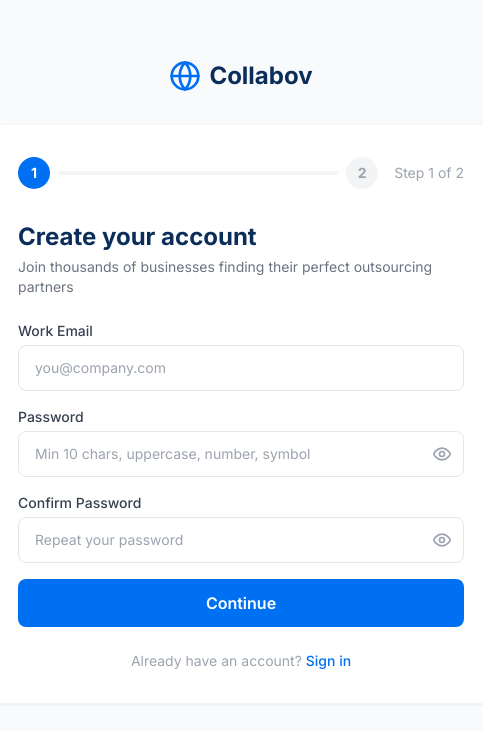
Scenario: Feature: Buyer Registration (3-step flow) › Scenario: Password must meet security requirements › should reject a password without a number
Step 1. Type "a@b.com" into the field with placeholder "you@company.com" → (241, 368), box x1=18 y1=345 x2=464 y2=391
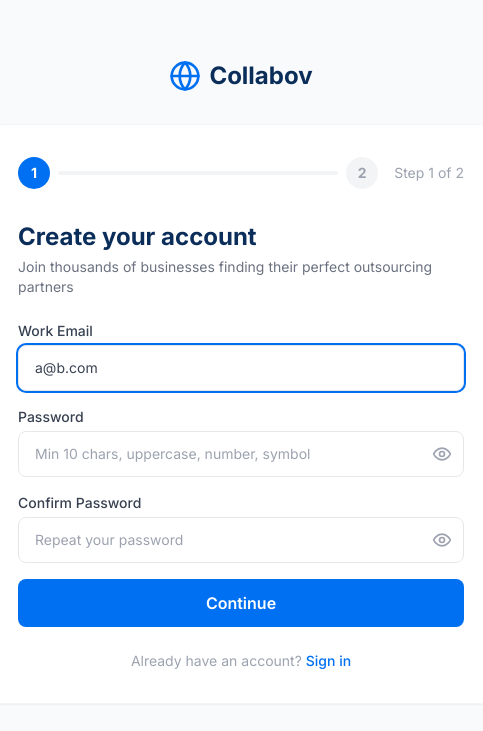
Step 2. Type "NoNumberHere!" into the password field with placeholder "Min 10 chars, uppercase, number, symbol" → (241, 454), box x1=18 y1=431 x2=464 y2=477
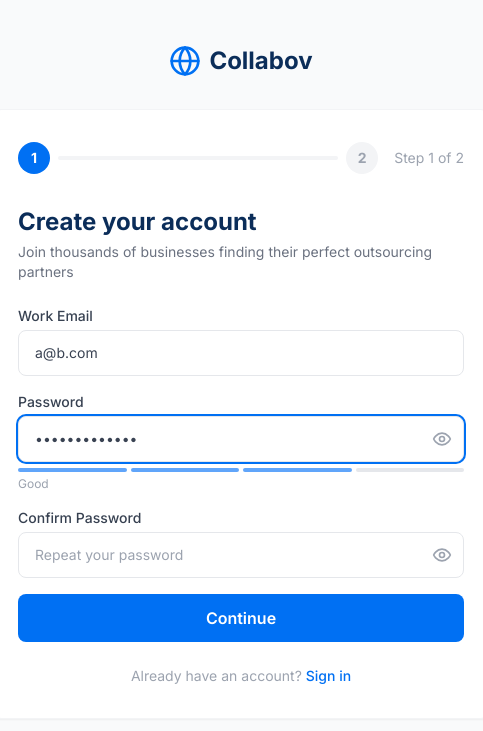
Step 3. Type "NoNumberHere!" into the password field with placeholder "Repeat your password" → (241, 555), box x1=18 y1=532 x2=464 y2=578
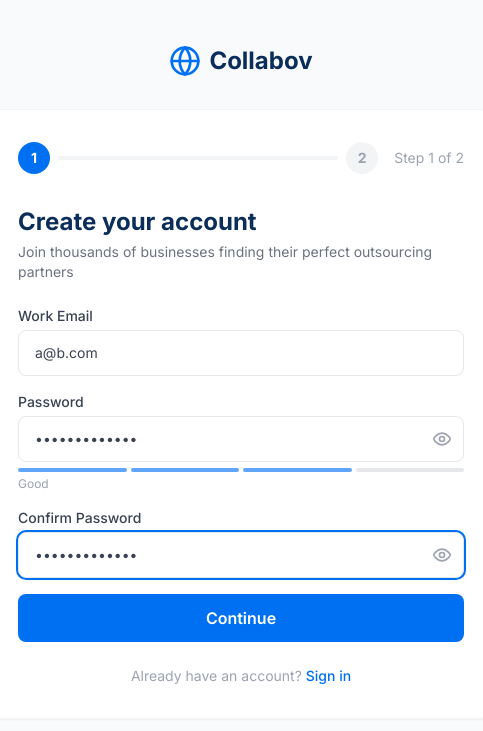
Step 4. Click the button "Continue" → (241, 618), box x1=18 y1=594 x2=464 y2=642
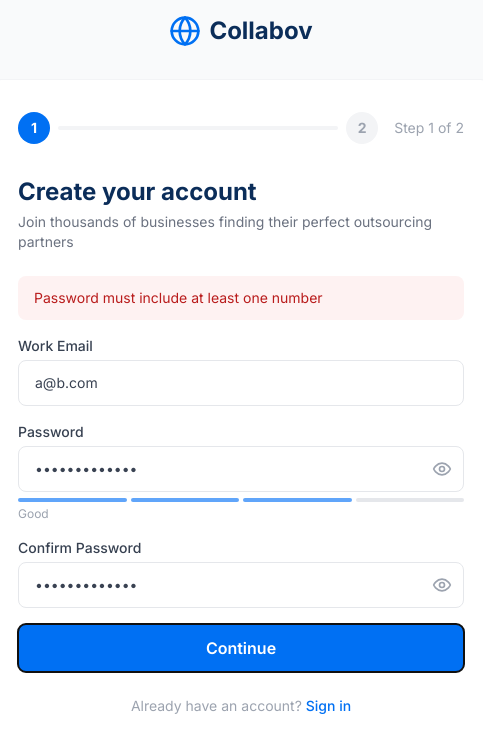
Expected: the text "Password must include at least one number" is shown, x1=18 y1=276 x2=464 y2=320
